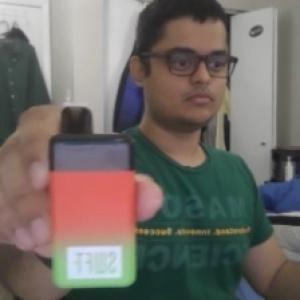Swift-E-Ciggirate: (43, 100, 142, 294)
